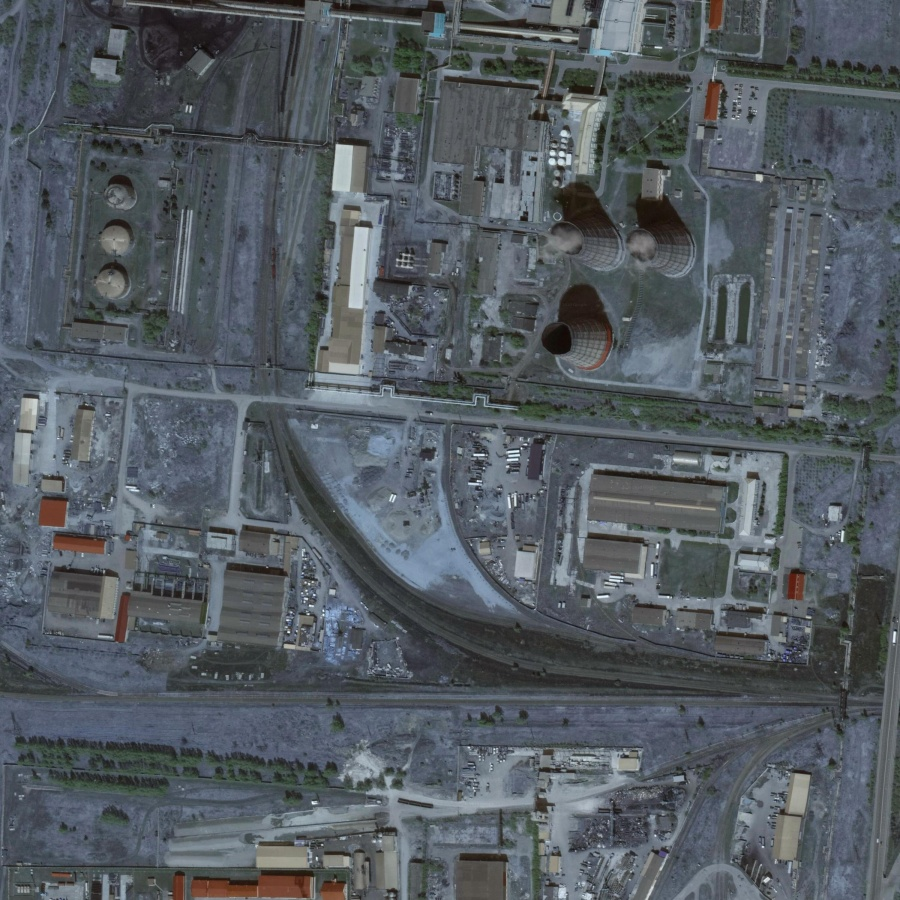PowerPlant: (533, 153, 722, 408), (55, 117, 203, 359)
